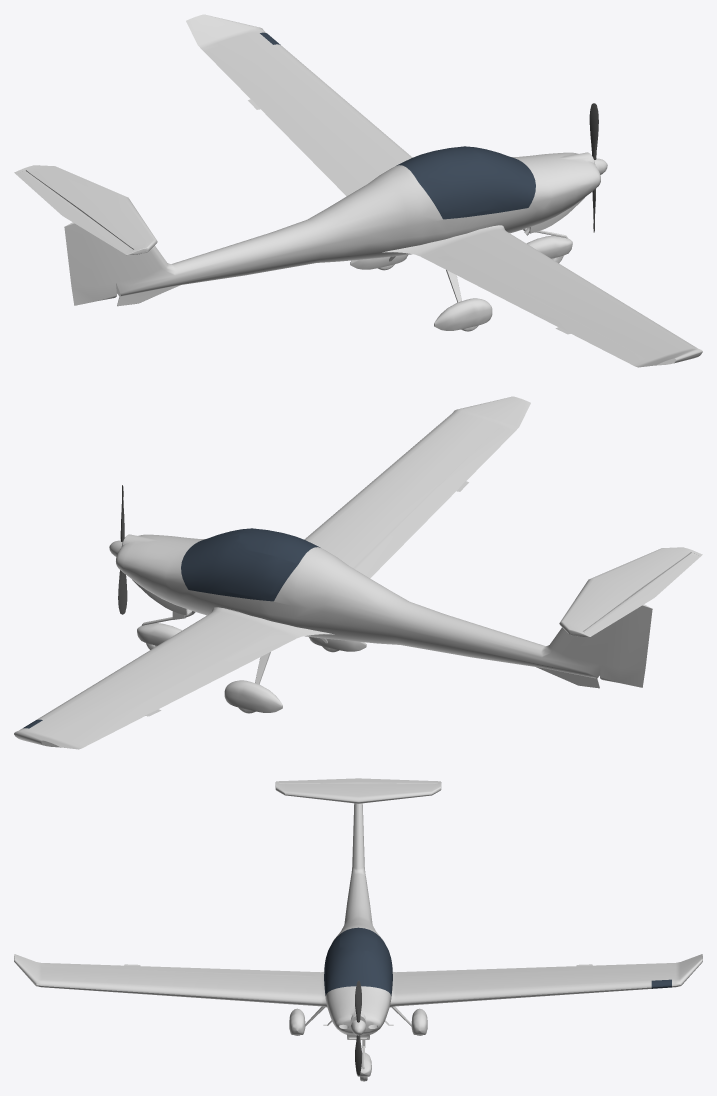
3 renders of one model, top to bottom at view 1: azimuth 30°, elevation 25°; view 2: azimuth 150°, elevation 25°; view 3: azimuth 270°, elevation 25°, orthographic. The views are drawn at different scales.
Parts seen in each view (by area): view 1: body, glass, spin; view 2: body, glass; view 3: body, glass, spin.
Part boxes in pixels (x1,y1,x2,y2): body: (14, 14, 702, 367); glass: (260, 32, 535, 219); spin: (589, 103, 598, 232); body: (14, 396, 702, 749); glass: (23, 528, 320, 728); body: (14, 778, 702, 1081); glass: (324, 927, 671, 995); spin: (355, 980, 361, 1075).
Bounding box in the file's own units: 1.47 × 0.457 × 2.2.
